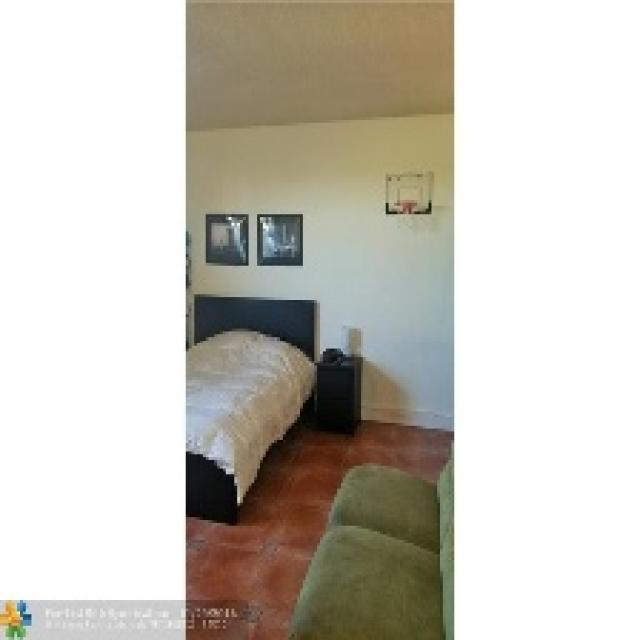Bed: (183, 291, 317, 523)
